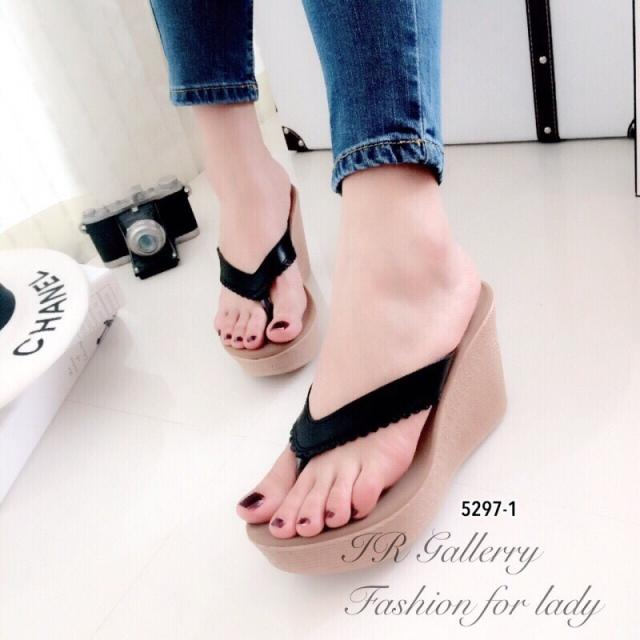Sandals: (176, 163, 522, 598)
